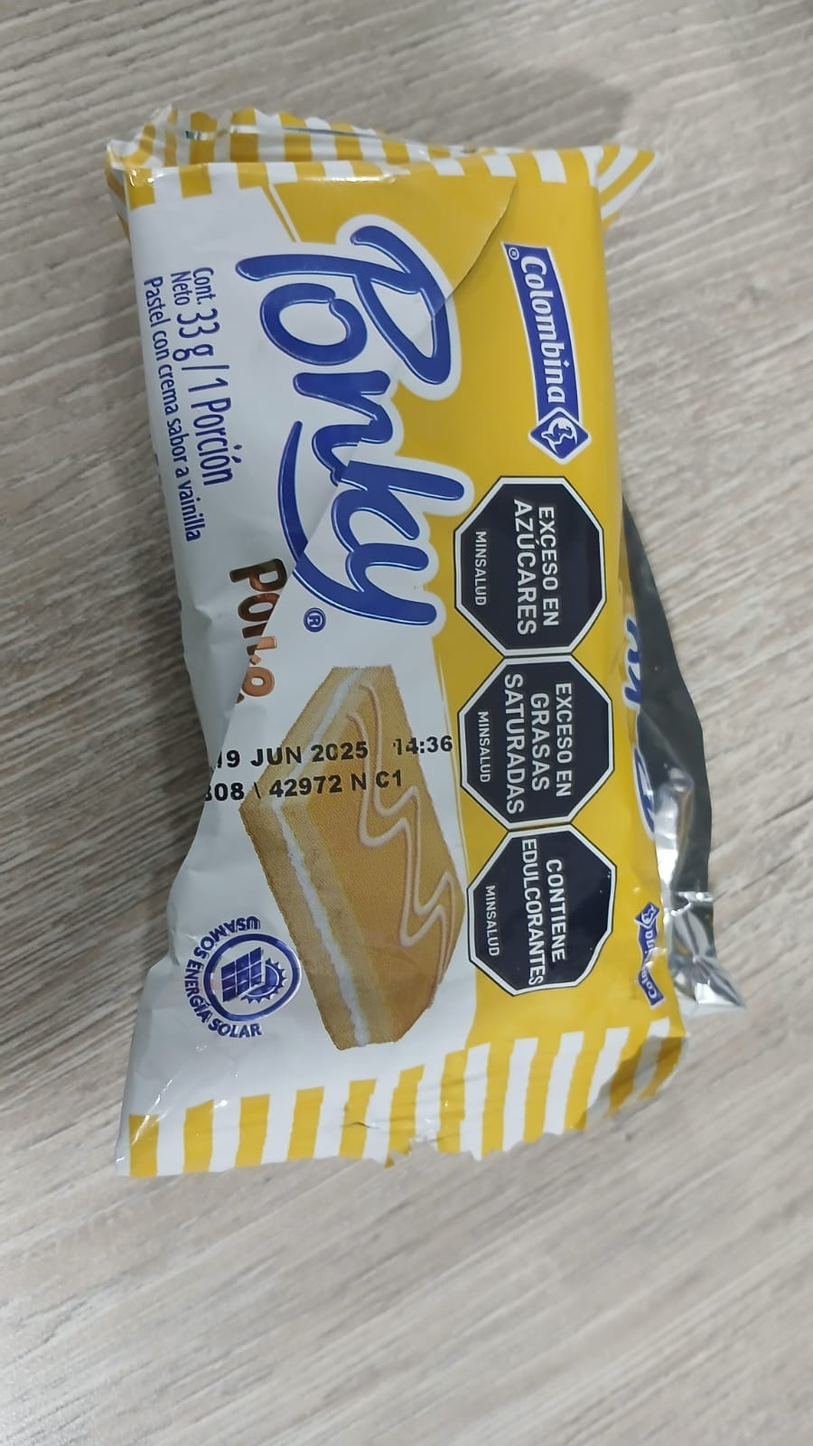Ordinario: (105, 99, 752, 1182)
